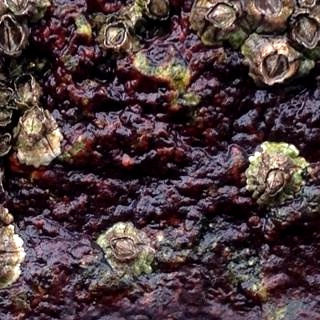Barnacle: (261, 51, 289, 78), (295, 14, 319, 45), (0, 18, 23, 49), (208, 1, 233, 27), (25, 108, 48, 136), (110, 236, 138, 256), (105, 22, 127, 47), (255, 0, 283, 19), (17, 74, 36, 101), (266, 167, 284, 191), (147, 0, 168, 18), (0, 134, 13, 153), (0, 106, 13, 124), (0, 69, 13, 84), (0, 87, 12, 102)
